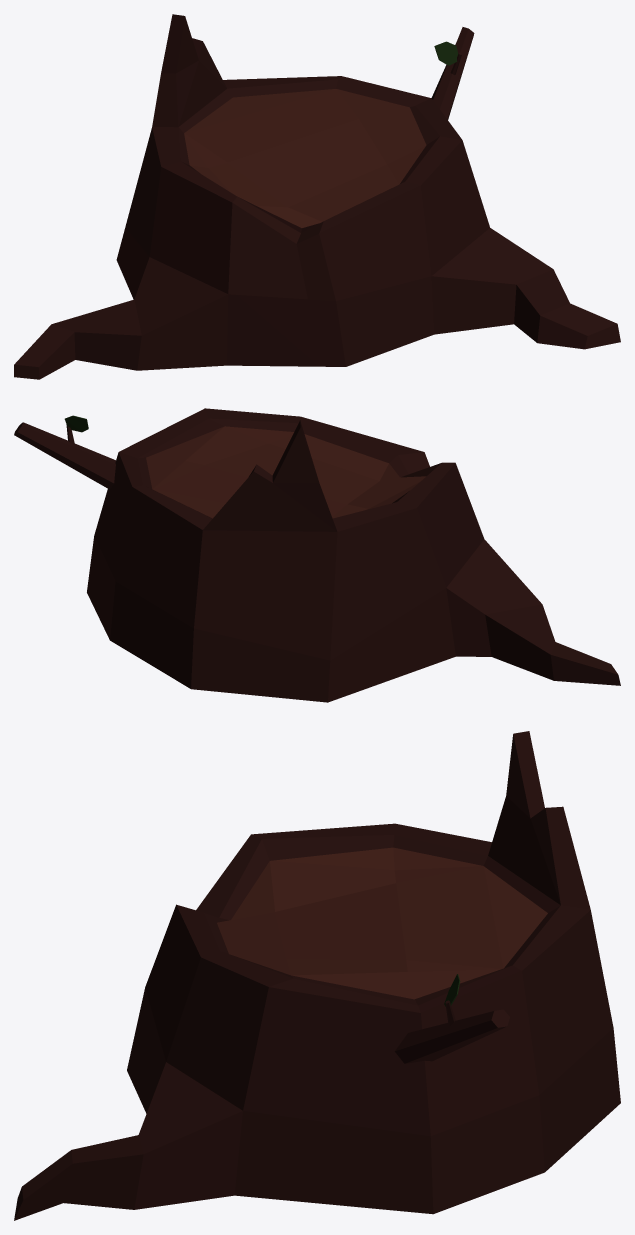
Rendered from TreeStump.glb.
3 views of the same model, one above another, from view 1: azimuth 30°, elevation 25°; view 2: azimuth 150°, elevation 25°; view 3: azimuth 270°, elevation 25° (orthographic). The views are drawn at different scales.
Visible parts, largest first — view 1: TreeStump_Cylinder.010; view 2: TreeStump_Cylinder.010; view 3: TreeStump_Cylinder.010.
Part boxes in pixels (<box>): TreeStump_Cylinder.010: <box>14,14,620,379</box>; TreeStump_Cylinder.010: <box>14,408,620,702</box>; TreeStump_Cylinder.010: <box>14,731,620,1220</box>.
Size of the model in its own units: 1.36 by 0.6216 by 1.03.
